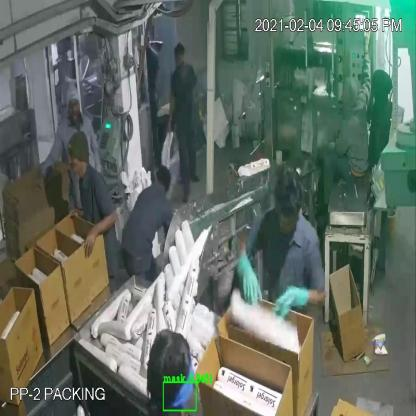glove: (224, 240, 265, 312), (271, 270, 316, 327)
no_glove: (81, 208, 121, 262), (164, 76, 177, 142)
